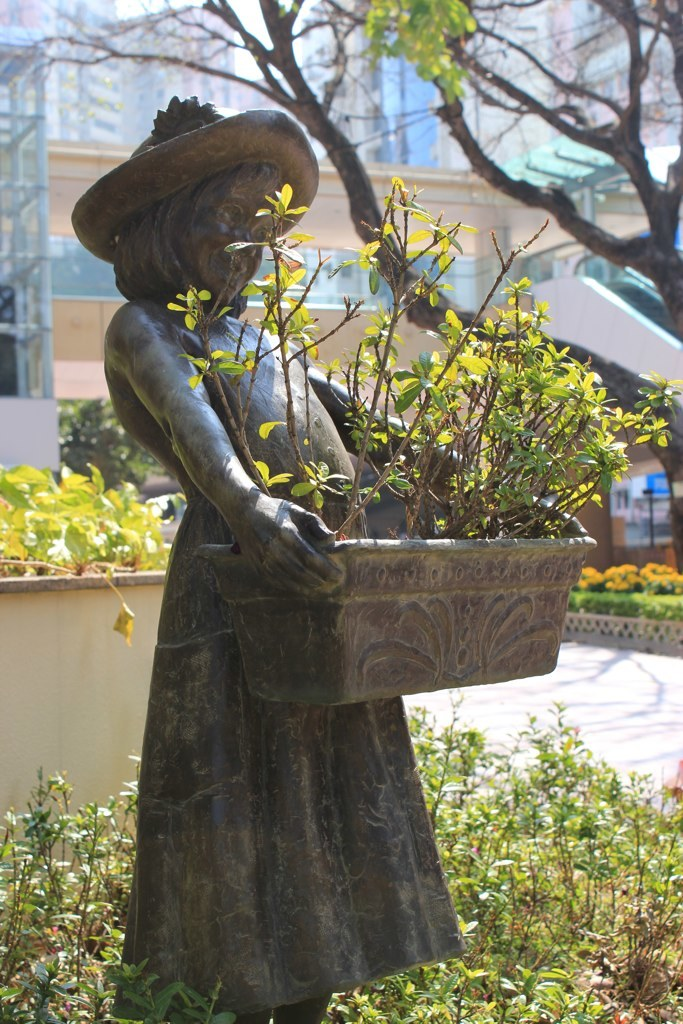Tree: (15, 0, 682, 600)
